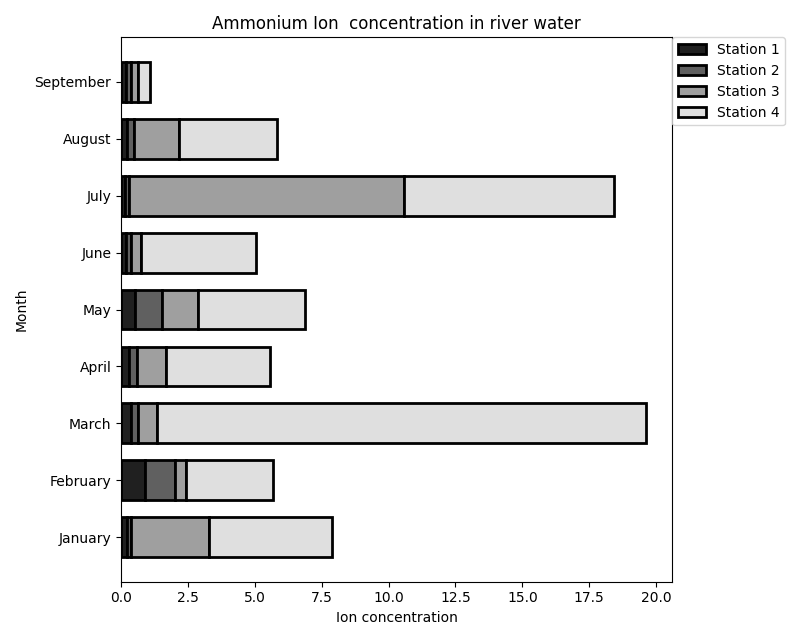canvas: (120, 47, 659, 570)
legend: (676, 40, 783, 122)
title: (208, 5, 590, 36)
x-axis: (111, 578, 692, 587)
x-labels: (106, 590, 677, 606)
x-title: (329, 609, 462, 629)
y-axis: (114, 32, 124, 589)
y-labels: (31, 61, 114, 552)
y-title: (10, 279, 30, 346)
